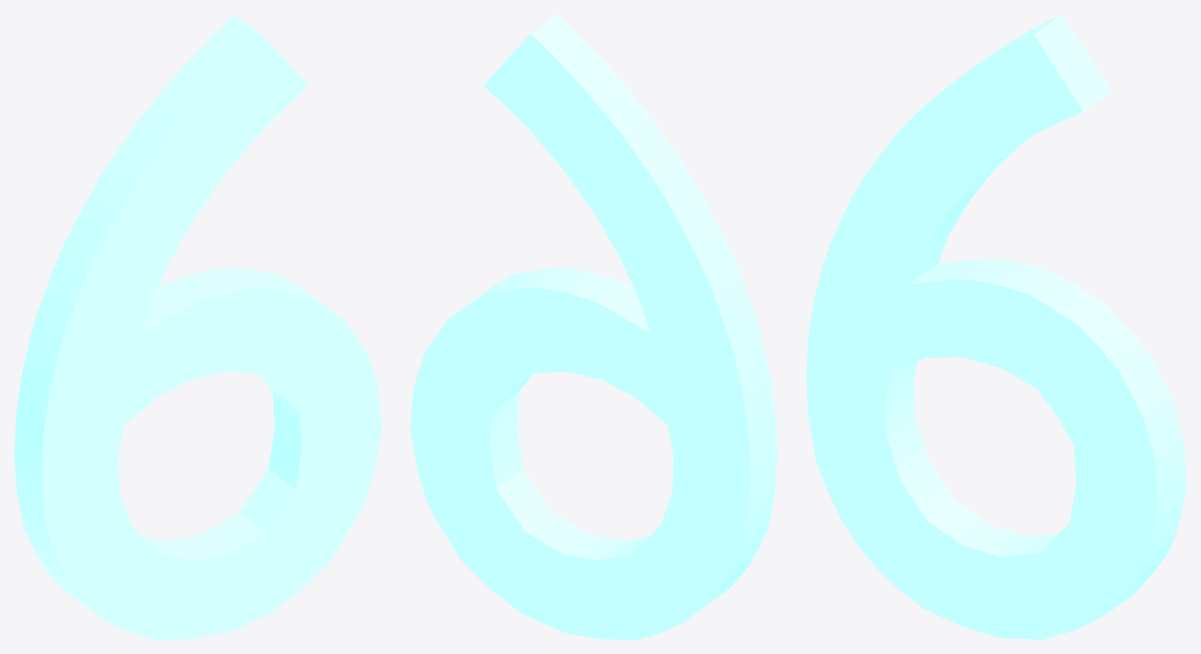
3 views of the same model, side by side, from view 1: azimuth 30°, elevation 25°; view 2: azimuth 150°, elevation 25°; view 3: azimuth 330°, elevation 25° (orthographic). The views are drawn at different scales.
Visible parts, largest first — view 1: 6; view 2: 6; view 3: 6.
Boxes of the visible parts, x1,y1,x2,y2 form: 6: (14,14,381,639); 6: (410,14,777,639); 6: (806,14,1186,639).
Bounding box in the file's own units: 3.5 × 5.8 × 0.4851.
